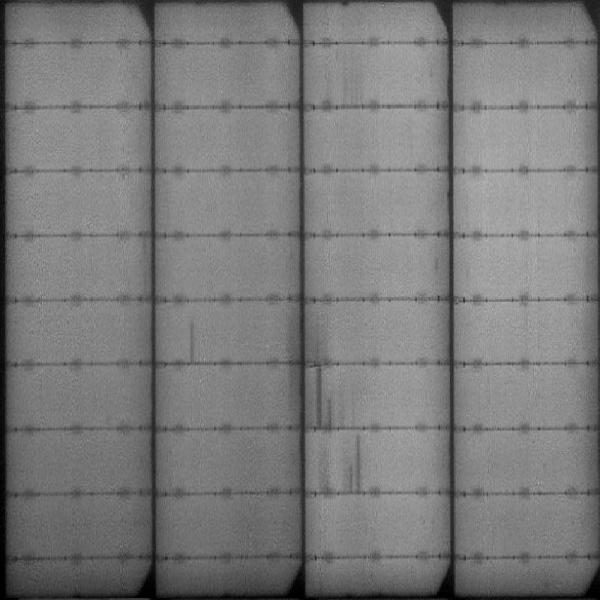scratch: (313, 337, 336, 432), (345, 432, 361, 499), (183, 314, 201, 365)
